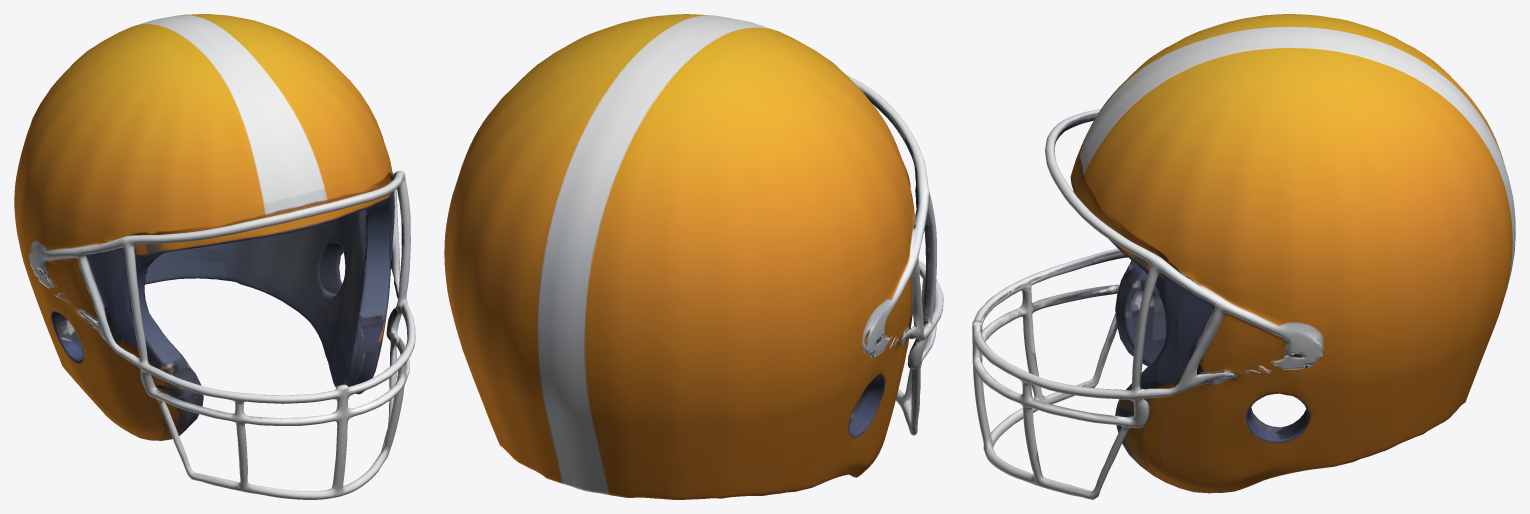
The model's file is FootBall Helmet.fbx.
3 views of the same model, side by side, from view 1: azimuth 30°, elevation 25°; view 2: azimuth 150°, elevation 25°; view 3: azimuth 270°, elevation 25° (orthographic). The views are drawn at different scales.
Parts seen in each view (by area): view 1: FootBall Helmet; view 2: FootBall Helmet; view 3: FootBall Helmet.
Part boxes in pixels (x1,y1,x2,y2): FootBall Helmet: (14, 14, 415, 499); FootBall Helmet: (444, 14, 943, 499); FootBall Helmet: (972, 14, 1515, 499).
Bounding box in the file's own units: 56.51 × 59.82 × 70.65.
